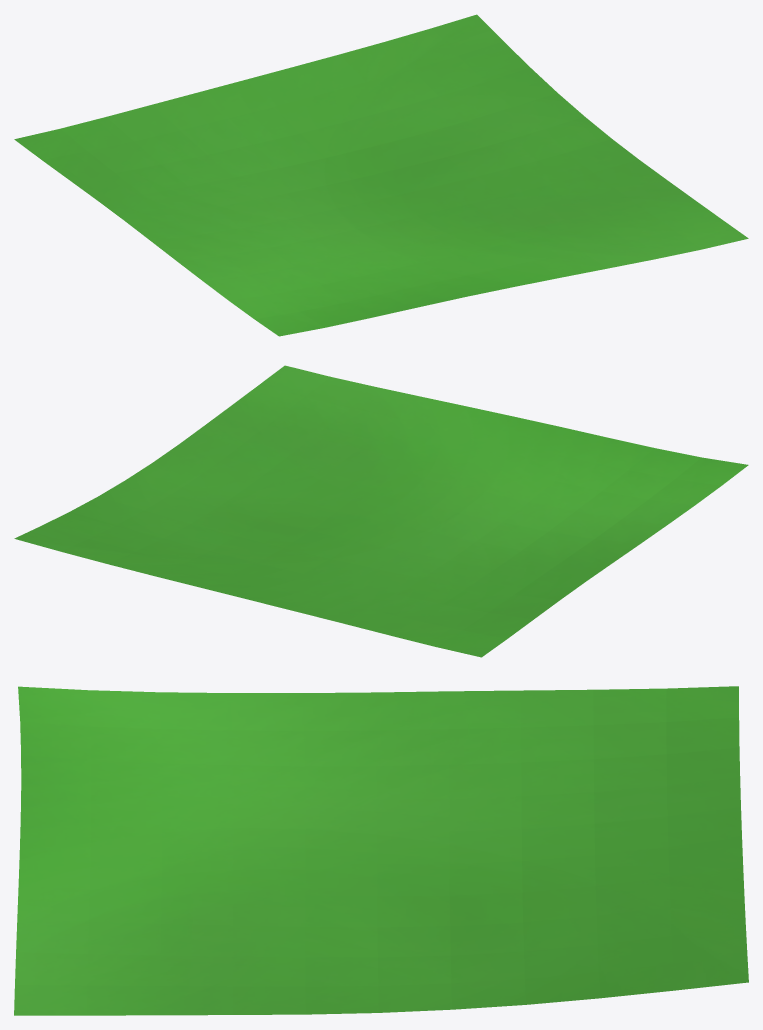
File: ground_1_1.glb
3 renders of one model, top to bottom at view 1: azimuth 30°, elevation 25°; view 2: azimuth 150°, elevation 25°; view 3: azimuth 270°, elevation 25°, orthographic. The views are drawn at different scales.
Visible parts, largest first — view 1: Ground_1_1.001; view 2: Ground_1_1.001; view 3: Ground_1_1.001.
Part boxes in pixels (left/top/right/bottom): Ground_1_1.001: left=14, top=14, right=748, bottom=336; Ground_1_1.001: left=14, top=365, right=748, bottom=657; Ground_1_1.001: left=14, top=686, right=748, bottom=1015.
Size of the model in its own units: 91.57 by 5.23 by 92.11.
1 material, 1 textured.
